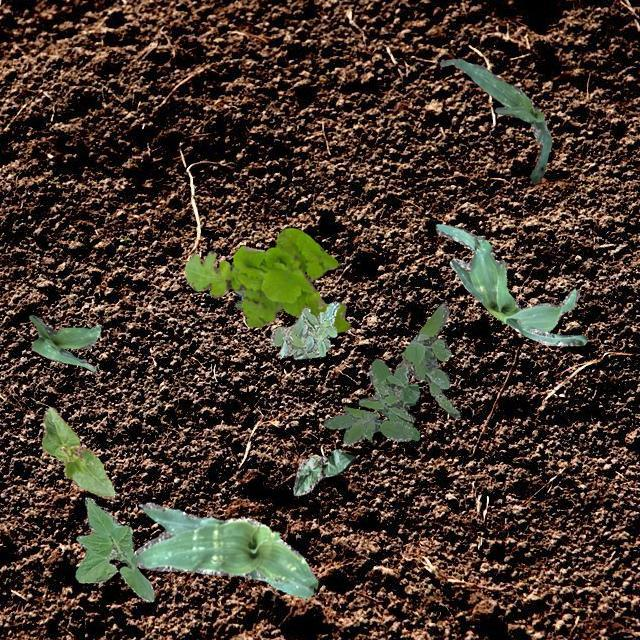crop: (434, 222, 586, 344), (132, 502, 316, 598), (438, 58, 550, 182), (74, 496, 152, 600), (40, 406, 114, 498), (29, 314, 100, 371), (292, 448, 353, 494)
weed: (183, 226, 350, 332), (374, 302, 458, 422), (358, 358, 418, 440), (268, 301, 338, 358), (322, 406, 412, 444), (232, 286, 245, 308)
